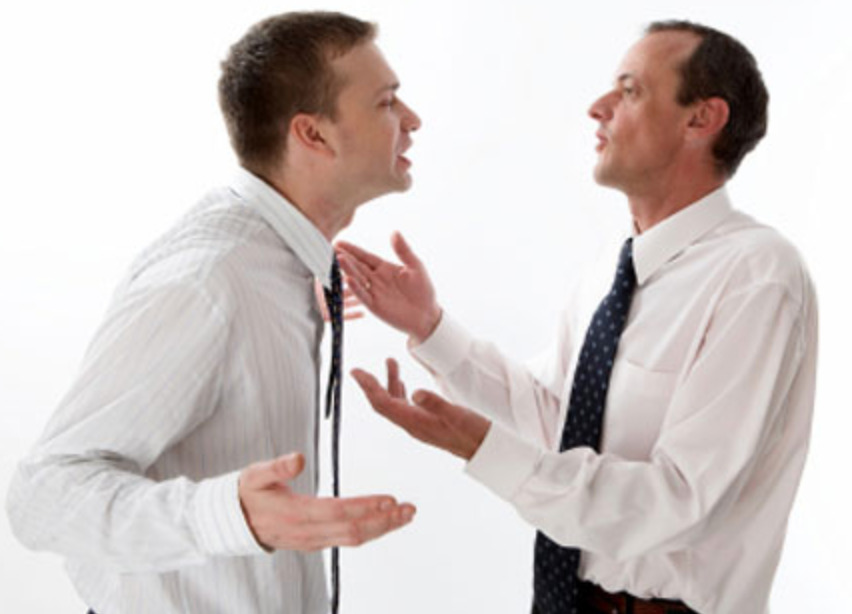Bad: (5, 11, 820, 614)
